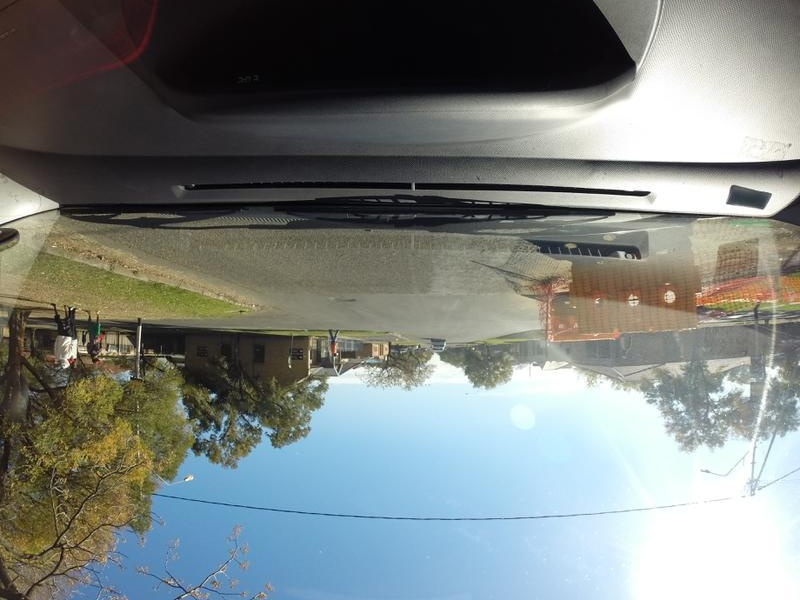pothole: (333, 289, 367, 309)
